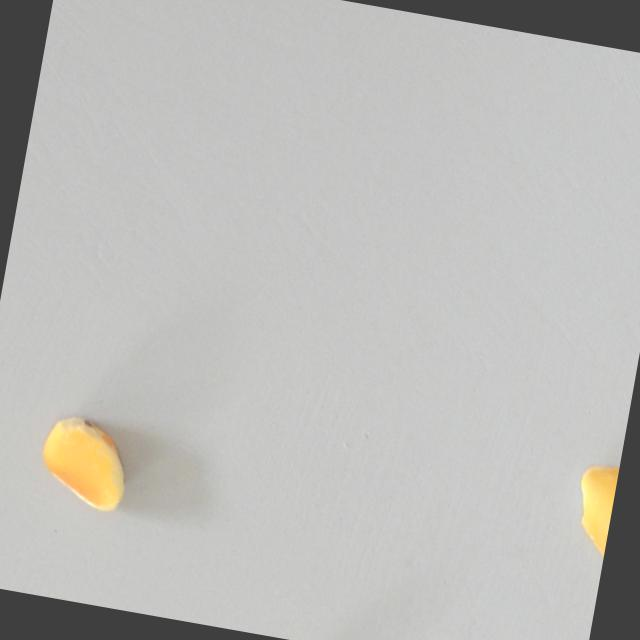estandar: (566, 461, 619, 564)
pelicula: (33, 411, 134, 514)
